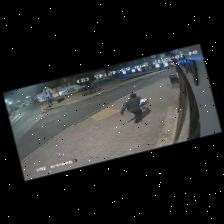person: (120, 93, 141, 123)
